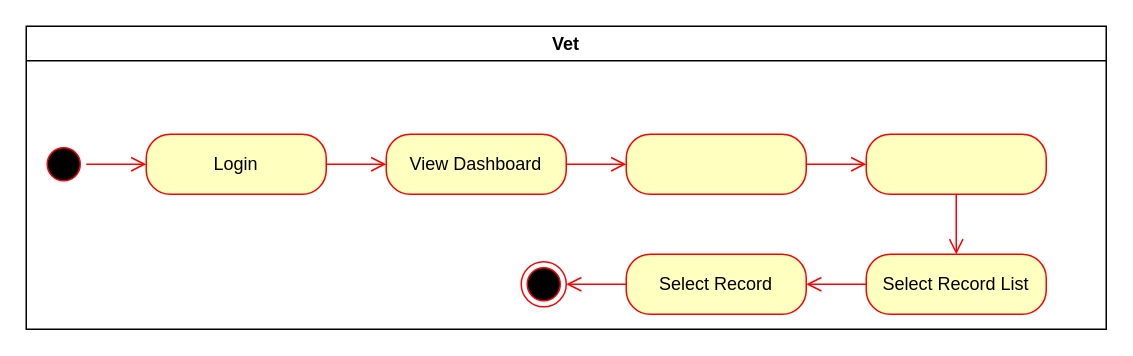
This 1133x356 diagram has some shape labels left out. Here are the shapes that lost their labels. From the top down, the box of each, then its label:
(625, 133, 806, 194): Click on "Pet List"
(865, 133, 1046, 194): Select Pet
